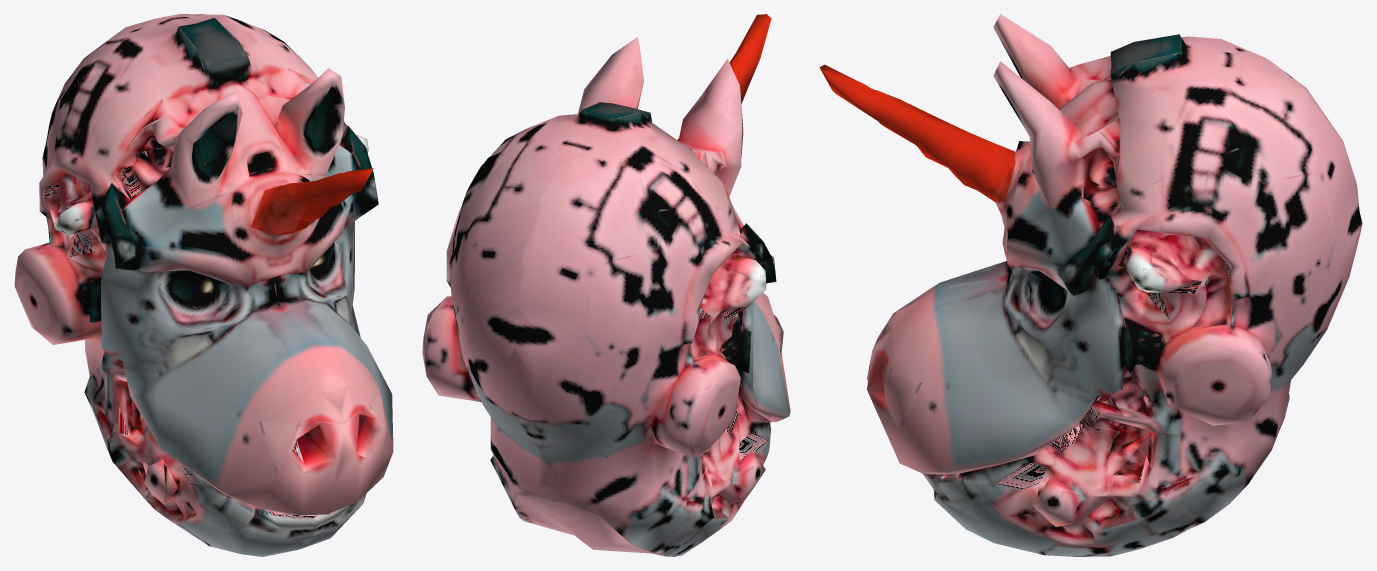
The model's file is Unibrowserloadicorn.glb.
3 views of the same model, side by side, from view 1: azimuth 30°, elevation 25°; view 2: azimuth 150°, elevation 25°; view 3: azimuth 270°, elevation 25° (orthographic). The views are drawn at different scales.
Parts seen in each view (by area): view 1: Mesh1.001; view 2: Mesh1.001; view 3: Mesh1.001.
Part boxes in pixels (bbox=[...]): Mesh1.001: bbox=[14, 14, 393, 556]; Mesh1.001: bbox=[422, 14, 790, 556]; Mesh1.001: bbox=[819, 14, 1362, 556].
Size of the model in its own units: 1.28 by 1.89 by 1.85.
Materials: 3 (2 with a texture image).
